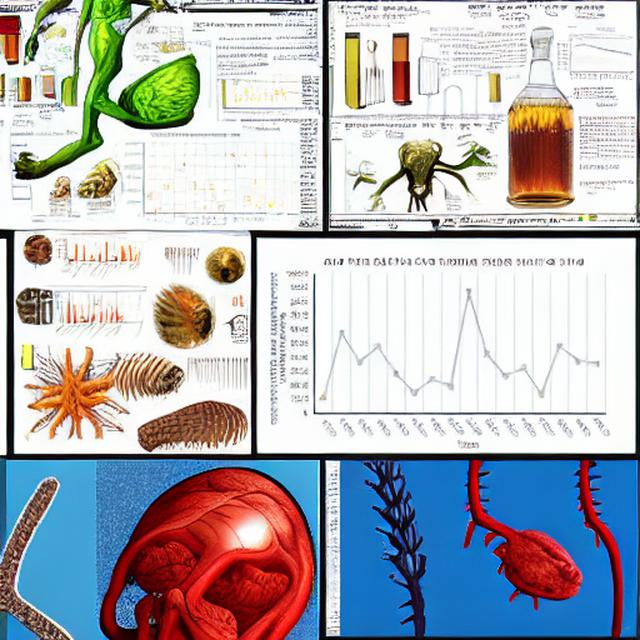Graph: (264, 251, 612, 451), (117, 132, 275, 228), (52, 231, 142, 284), (556, 35, 635, 85)
